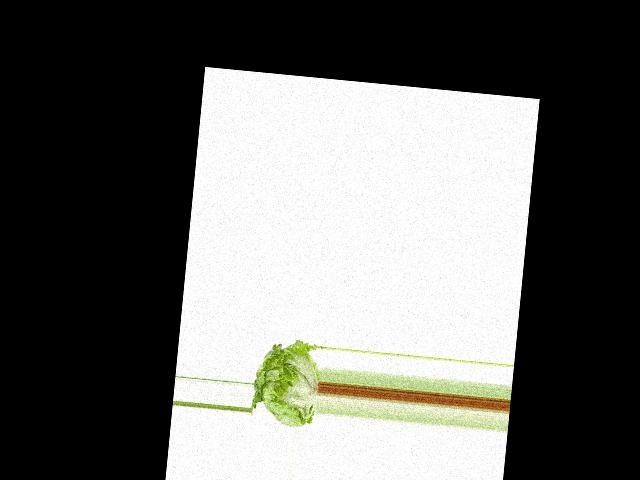lettuce: (250, 333, 323, 431)
